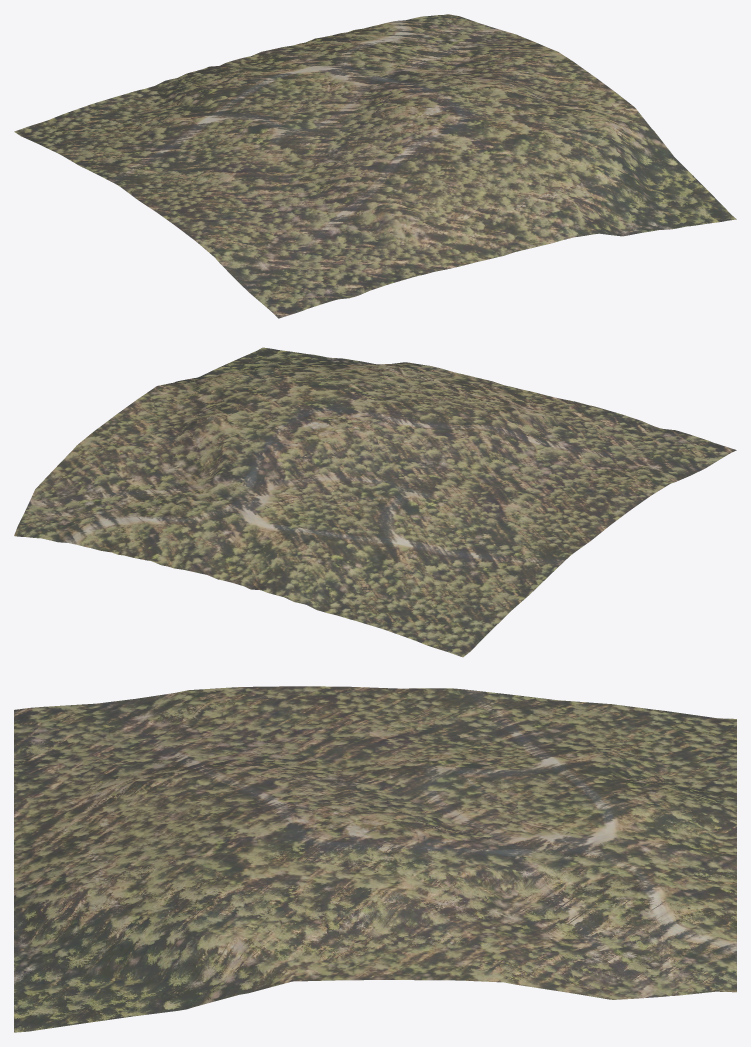
Rendered from CM_Terrain_24490868_6822660.fbx.
3 views of the same model, one above another, from view 1: azimuth 30°, elevation 25°; view 2: azimuth 150°, elevation 25°; view 3: azimuth 270°, elevation 25° (orthographic). The views are drawn at different scales.
Parts seen in each view (by area): view 1: CM_Terrain_24490868_6822660_LOD0; view 2: CM_Terrain_24490868_6822660_LOD0; view 3: CM_Terrain_24490868_6822660_LOD0.
Boxes of the visible parts, bbox=[...] form: CM_Terrain_24490868_6822660_LOD0: bbox=[14, 14, 736, 318]; CM_Terrain_24490868_6822660_LOD0: bbox=[14, 347, 736, 657]; CM_Terrain_24490868_6822660_LOD0: bbox=[14, 686, 736, 1032].
Size of what is drawn, in the model's own units: 205 by 25.91 by 205.
